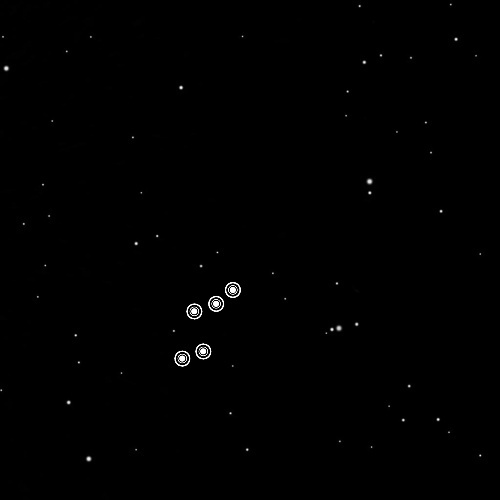lyra: (166, 273, 247, 375)
